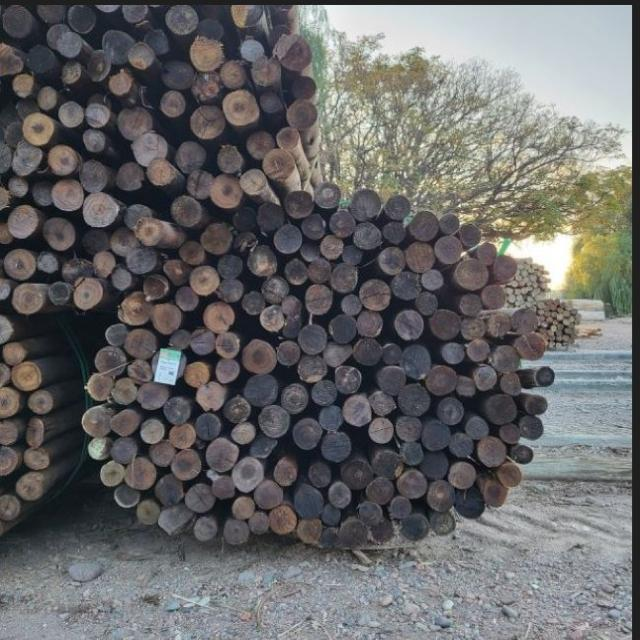package: (86, 191, 554, 549), (1, 6, 319, 317), (1, 317, 51, 534), (500, 256, 552, 306), (530, 302, 579, 351)
